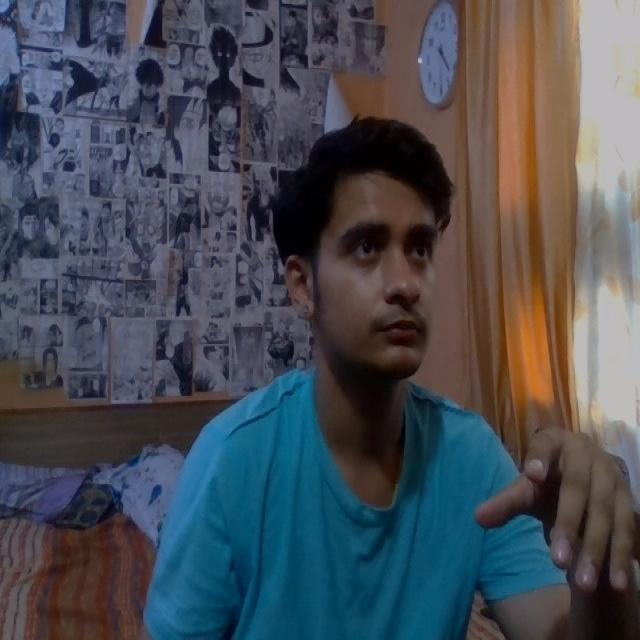idle: (156, 116, 640, 640)
